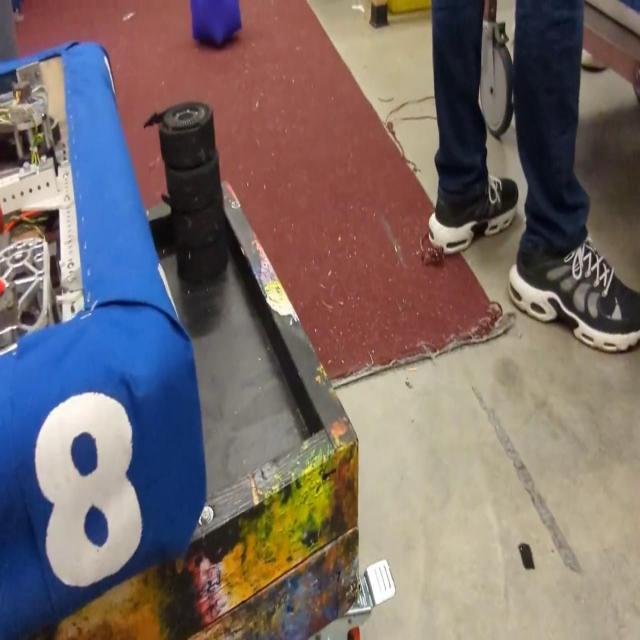frc_cube: (191, 0, 242, 47)
